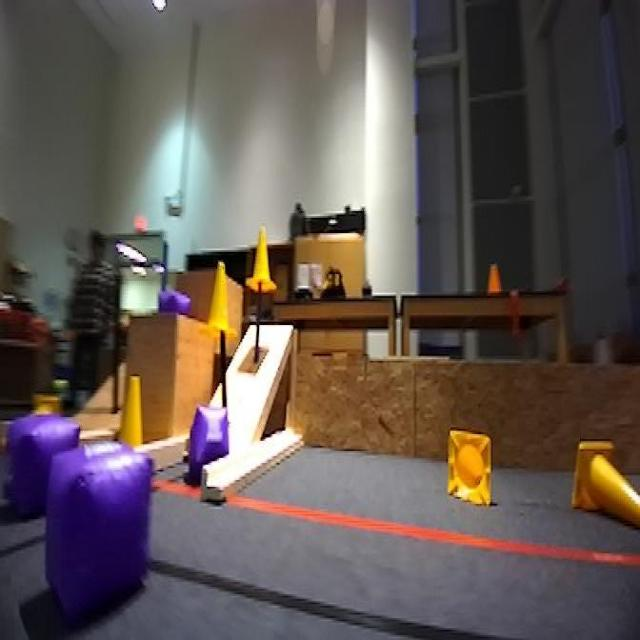frc_cone: (442, 421, 508, 519), (571, 443, 640, 536), (249, 221, 283, 293), (121, 369, 144, 434), (212, 282, 235, 332), (32, 385, 60, 415)
frc_cube: (72, 438, 170, 598), (12, 414, 78, 526), (195, 405, 236, 455), (161, 281, 194, 318)
